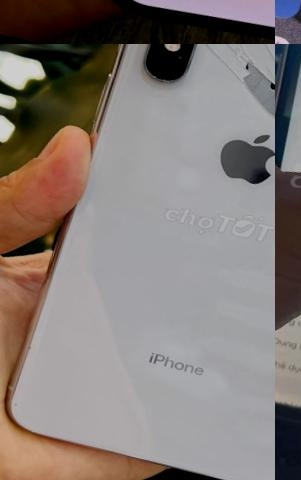physical_damage: (211, 55, 275, 132), (142, 44, 270, 62), (261, 112, 275, 158)
